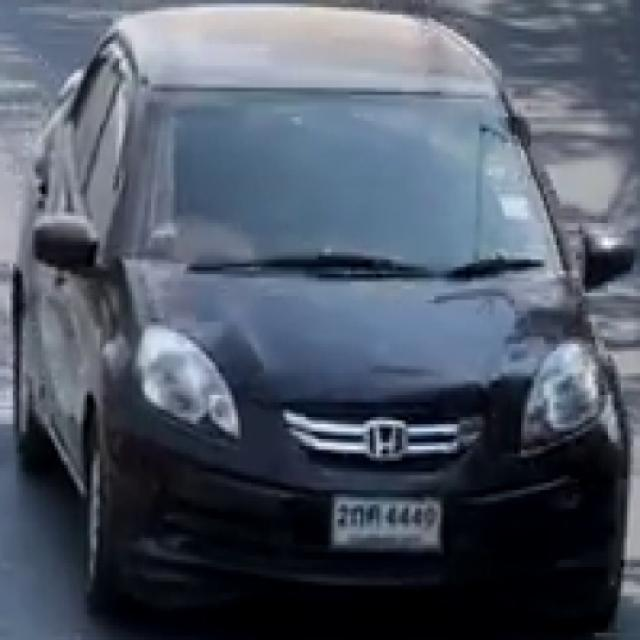plate: (332, 492, 442, 553)
